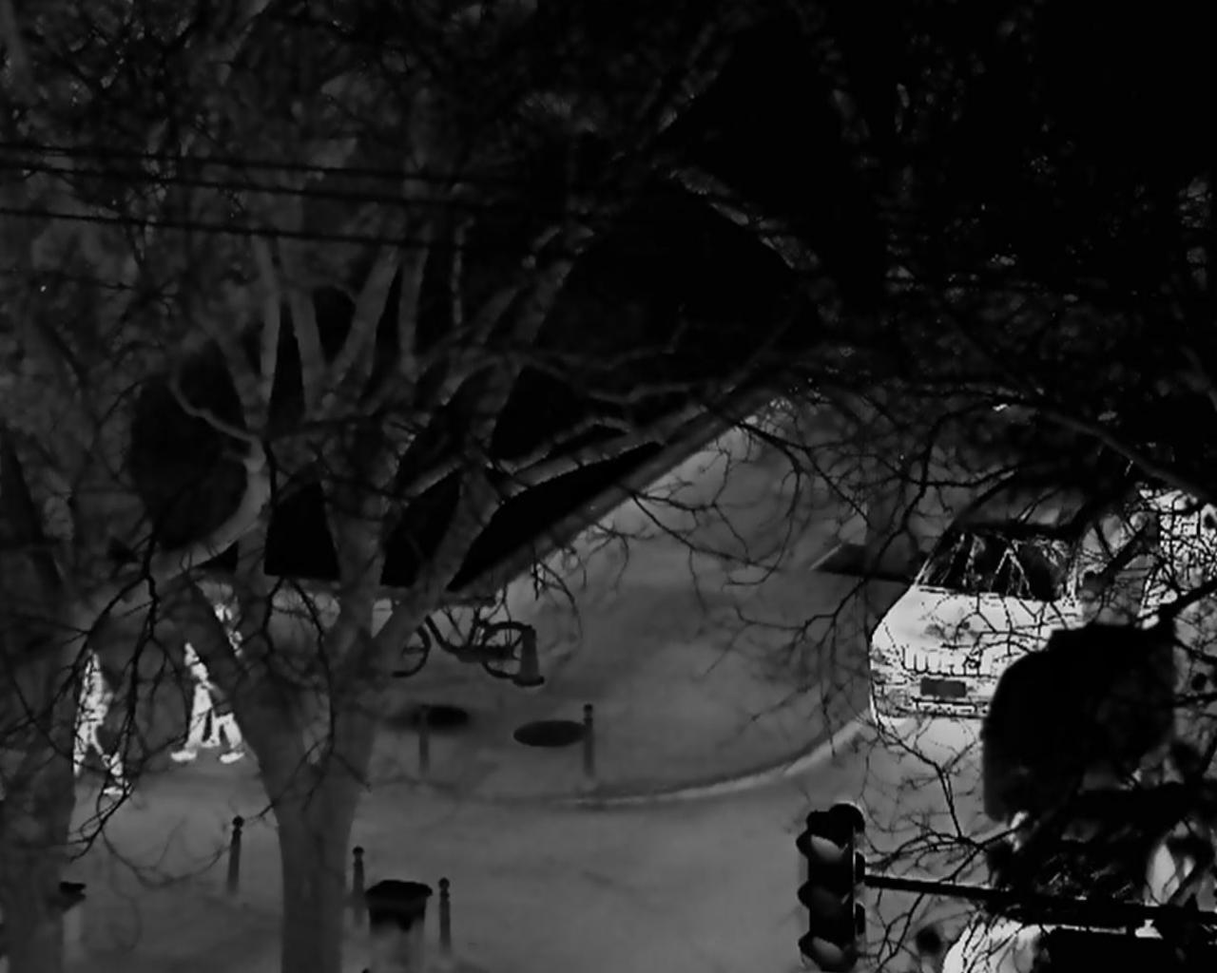person: (170, 642, 245, 762), (76, 648, 127, 800)
